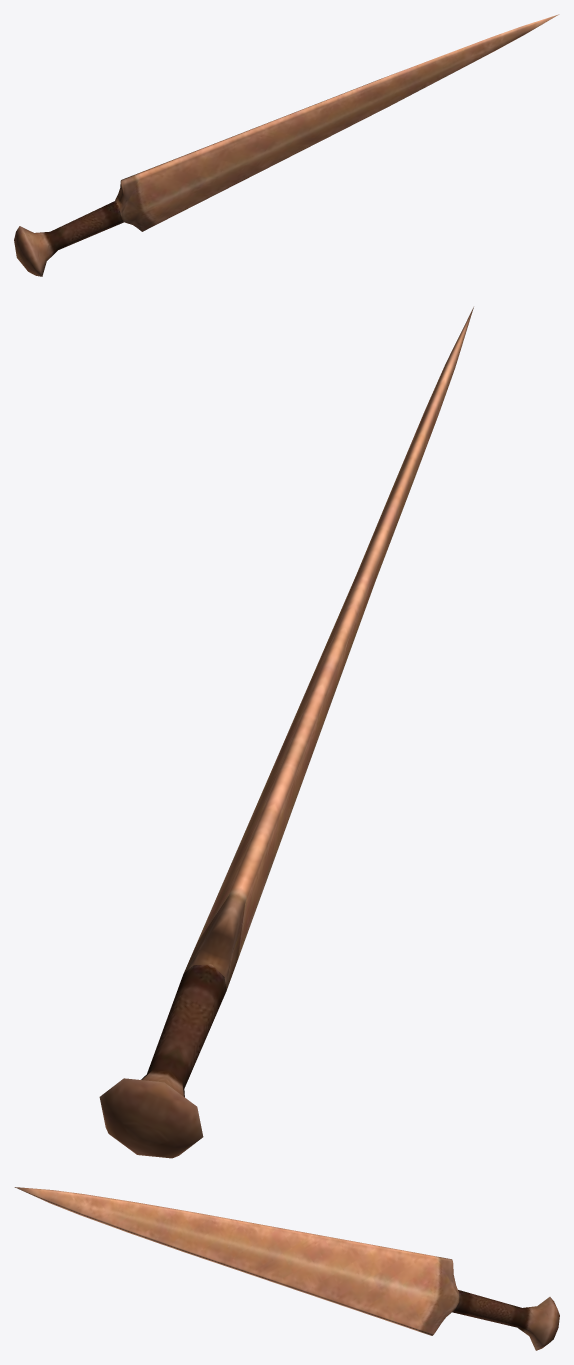
File: weapon-bronzeweapons.glb
3 renders of one model, top to bottom at view 1: azimuth 90°, elevation 25°; view 2: azimuth 150°, elevation 25°; view 3: azimuth 270°, elevation 25°, orthographic. The views are drawn at different scales.
Size of the model in its own units: 0.2635 by 0.4211 by 0.9951.
1 material, 1 textured.
